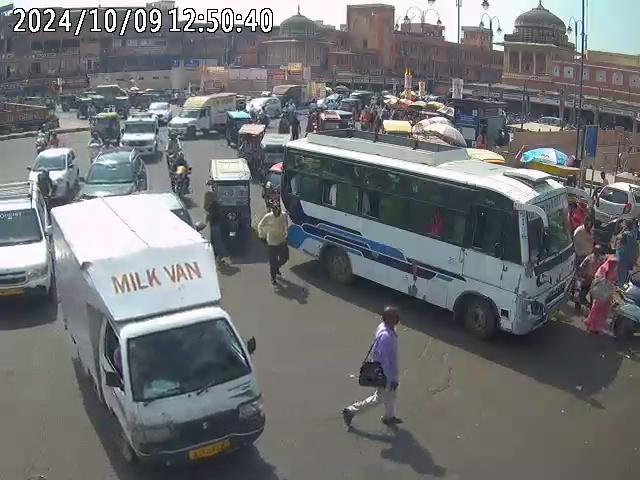auto: (203, 157, 253, 266), (236, 122, 267, 177), (88, 111, 121, 145)
bus: (283, 132, 580, 340), (0, 178, 57, 313)
car: (81, 148, 148, 199), (29, 146, 80, 203), (591, 177, 640, 226), (120, 113, 160, 156)
license_plate: (186, 438, 232, 461)
lorry: (53, 189, 266, 477), (170, 91, 243, 136)
motorbike-rider: (167, 162, 192, 201)
person: (358, 305, 410, 431), (256, 204, 290, 294)
